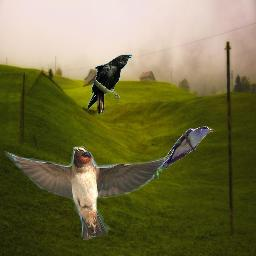Crow: (87, 54, 132, 115)
Cuckoo: (153, 126, 215, 179)
Swallow: (3, 146, 171, 240)
